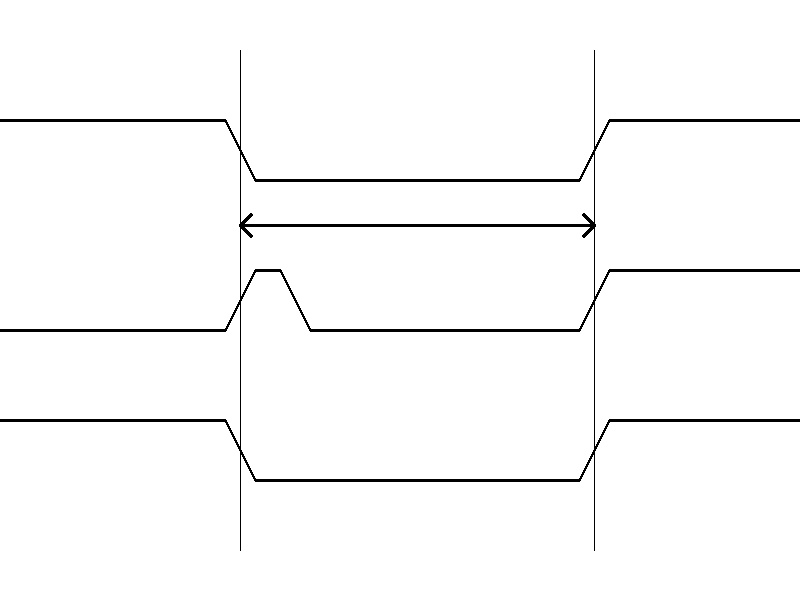double_arrow: (240, 210, 594, 240)
